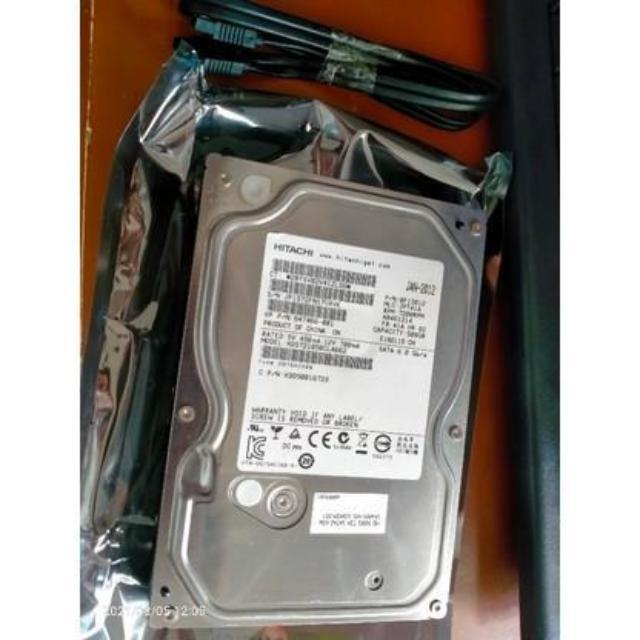DISK: (151, 140, 491, 638)
